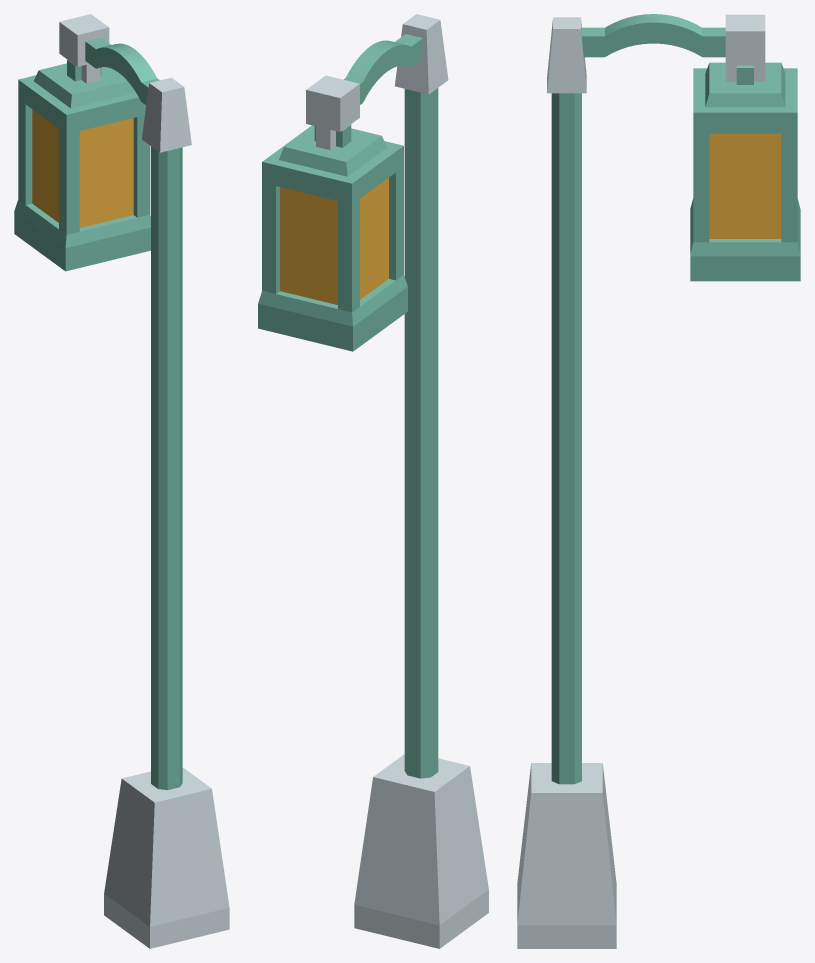
The model's file is lanternSingle.fbx.
3 views of the same model, side by side, from view 1: azimuth 30°, elevation 25°; view 2: azimuth 150°, elevation 25°; view 3: azimuth 270°, elevation 25° (orthographic). The views are drawn at different scales.
Visible parts, largest first — view 1: lanternSingle; view 2: lanternSingle; view 3: lanternSingle.
Boxes of the visible parts, box(x1,y1,x2,y2) form: lanternSingle: box(14, 14, 229, 948); lanternSingle: box(258, 14, 488, 948); lanternSingle: box(517, 14, 800, 948).
Bounding box in the file's own units: 1.46 × 13.26 × 3.74.
